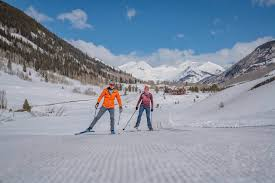skis: (72, 129, 115, 137), (129, 128, 161, 132)
